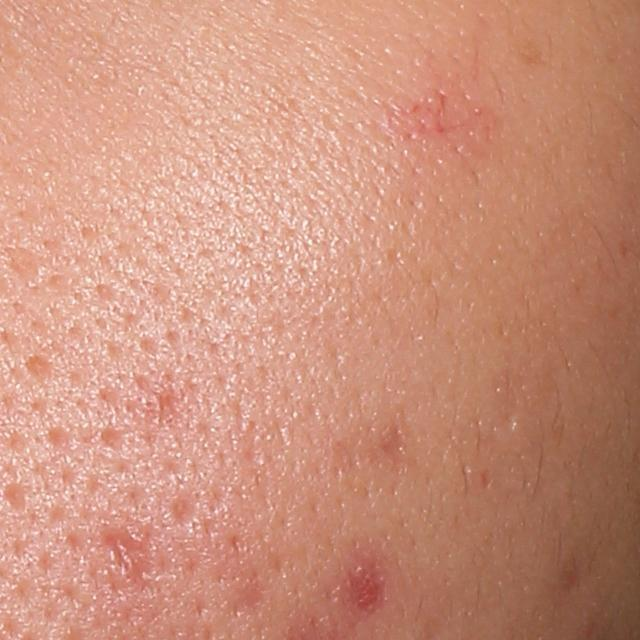atrophic_scar: (104, 529, 159, 599), (137, 378, 184, 428), (379, 429, 428, 473), (234, 571, 267, 617), (22, 351, 57, 376), (168, 495, 194, 526), (1, 483, 26, 510)
